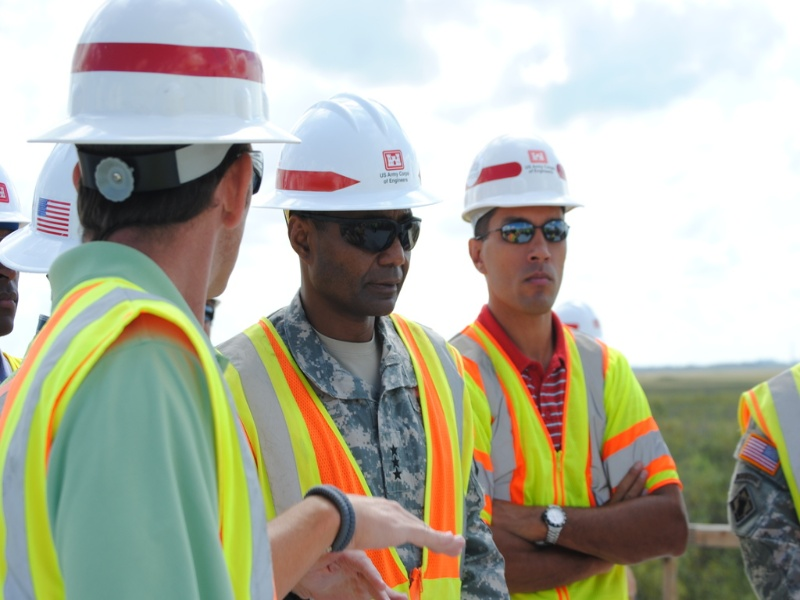Baret: (42, 1, 304, 152), (259, 92, 439, 213), (462, 138, 581, 212)
